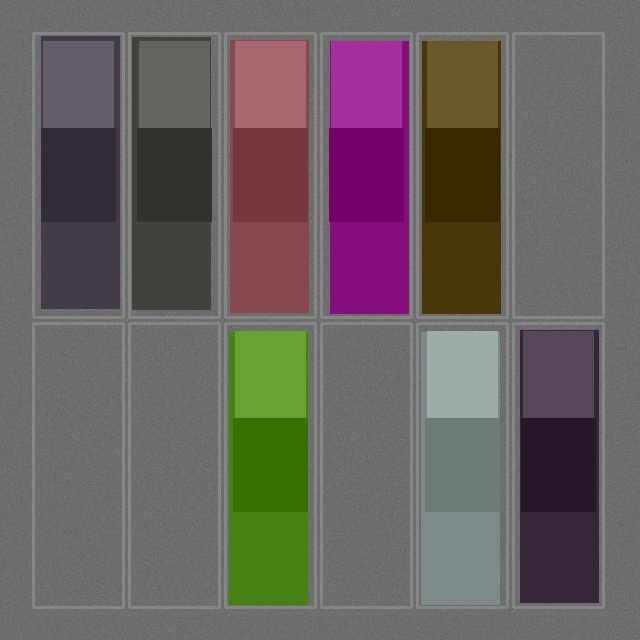space-empty: (515, 35, 601, 315), (35, 325, 121, 605), (131, 325, 217, 605), (323, 325, 409, 605)
space-occupied: (35, 35, 121, 315), (131, 35, 217, 315), (227, 35, 313, 315), (323, 35, 409, 315), (419, 35, 505, 315), (227, 325, 313, 605), (419, 325, 505, 605), (515, 325, 601, 605)
